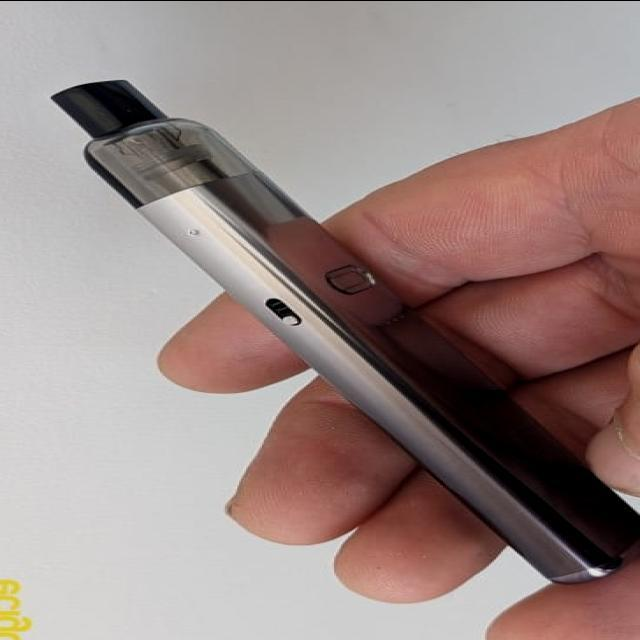Hazard: (49, 78, 640, 584)
